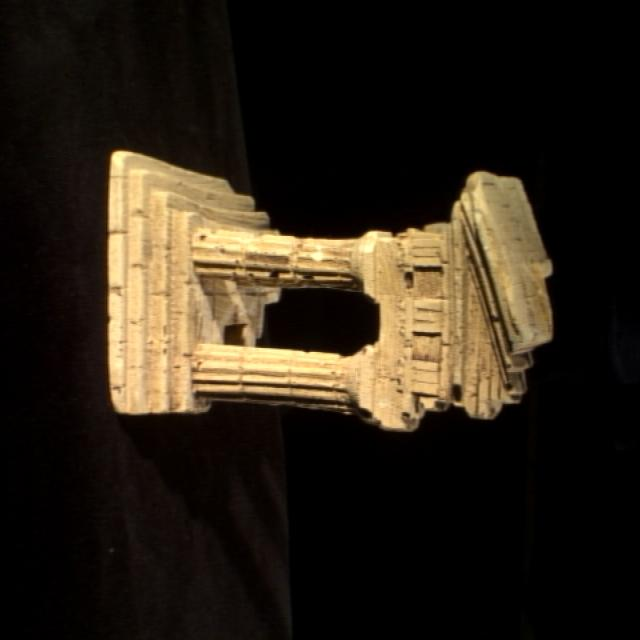Instance-Segmentation: (109, 152, 552, 431)
